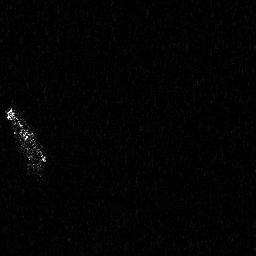ship: (4, 105, 47, 185)
